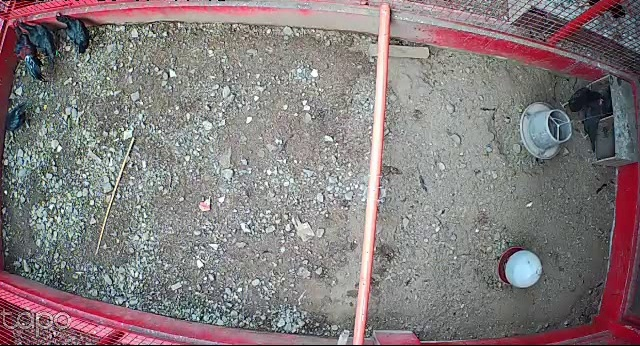Chicken: (15, 20, 58, 67), (54, 11, 93, 55), (576, 103, 604, 153), (558, 86, 607, 113), (6, 100, 32, 135)
Drinker: (497, 244, 544, 288)
Feeder: (520, 101, 572, 160)
Leg_Band_Green: (55, 50, 60, 57)
Rooster: (10, 21, 48, 83)
